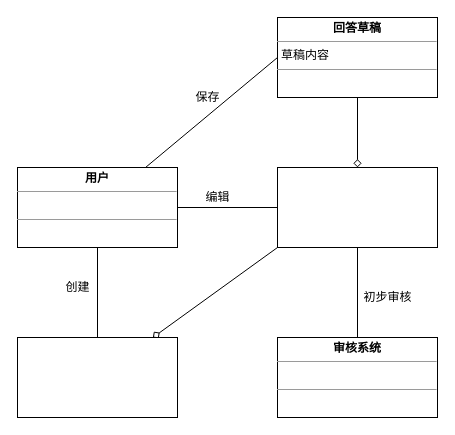
The diagram is 455 pixels wide and 435 high, and some of its shapes have lost their labels. The shapes that lost their labels are listed below. From the top down, each one's centre as x and y in pixels, then its label:
point (357, 207): 回答 回答内容
point (97, 377): 回答仓库
